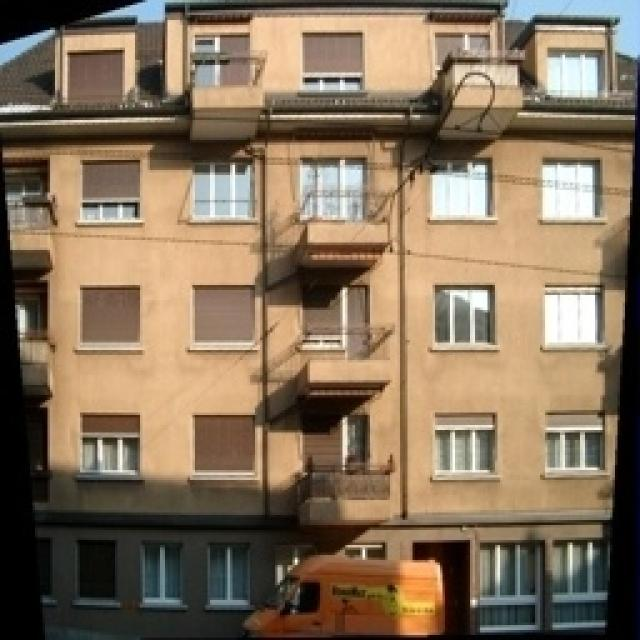building: (12, 15, 640, 640)
